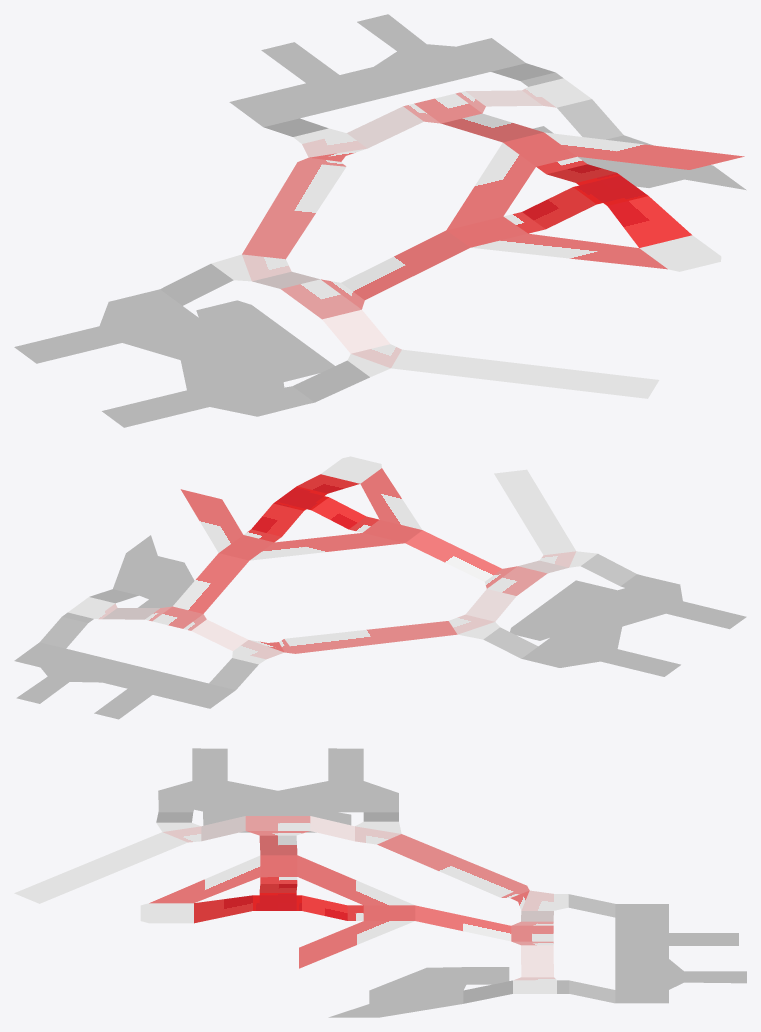
Rendered from Navi_Des.FBX.
The picture shows the model from 3 angles, top to bottom: view 1: azimuth 30°, elevation 25°; view 2: azimuth 150°, elevation 25°; view 3: azimuth 270°, elevation 25°; orthographic projection. The views are drawn at different scales.
Parts seen in each view (by area): view 1: Plane001; view 2: Plane001; view 3: Plane001.
Part boxes in pixels (left/top/right/bottom): Plane001: left=14, top=14, right=746, bottom=427; Plane001: left=14, top=456, right=746, bottom=719; Plane001: left=14, top=748, right=746, bottom=1017.
Size of the model in its own units: 7215 by 639 by 8300.
